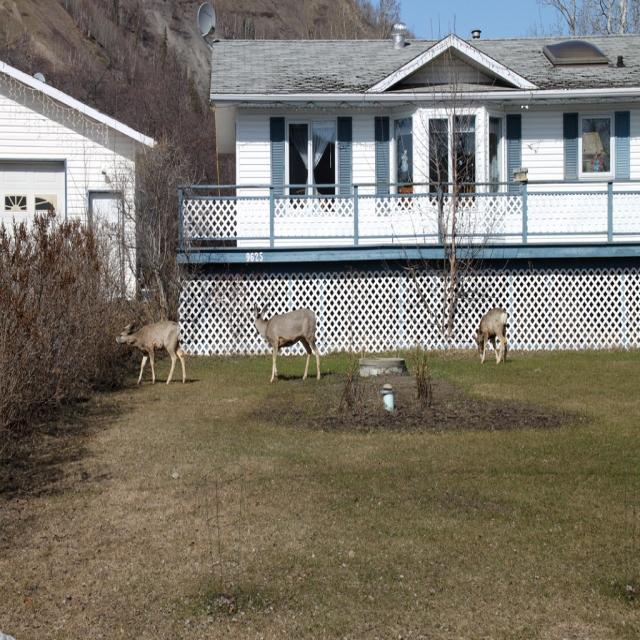Deer: (254, 302, 320, 378), (114, 320, 188, 381), (477, 306, 508, 363)
